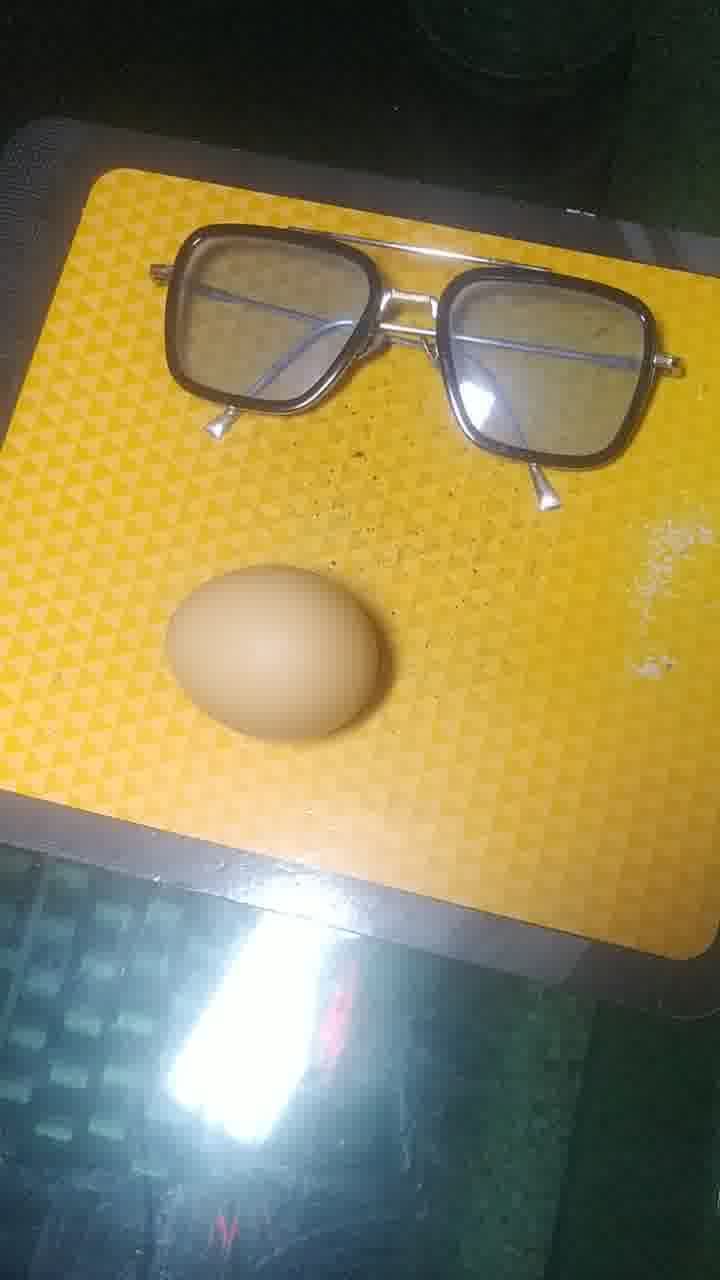egg: (160, 558, 403, 750)
sunglass: (146, 201, 686, 513)
